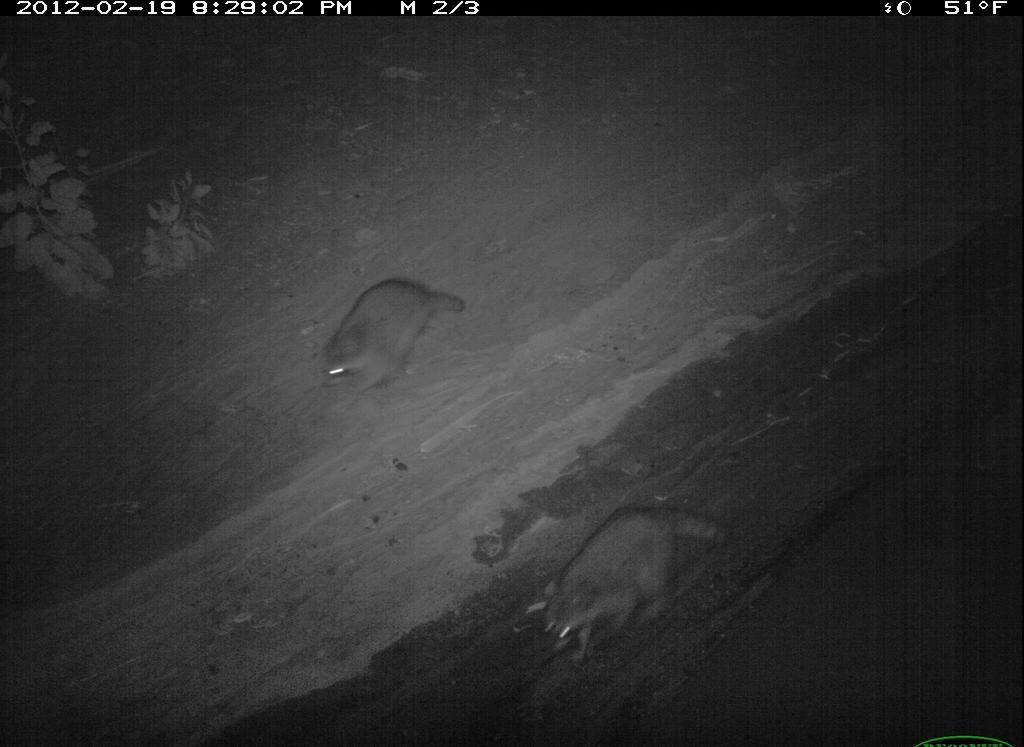raccoon: (627, 547, 939, 747)
